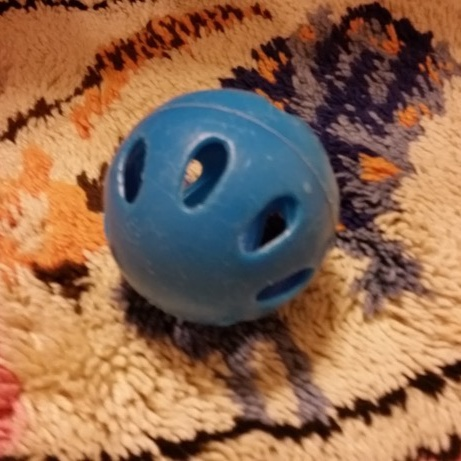ball: (96, 84, 346, 334)
